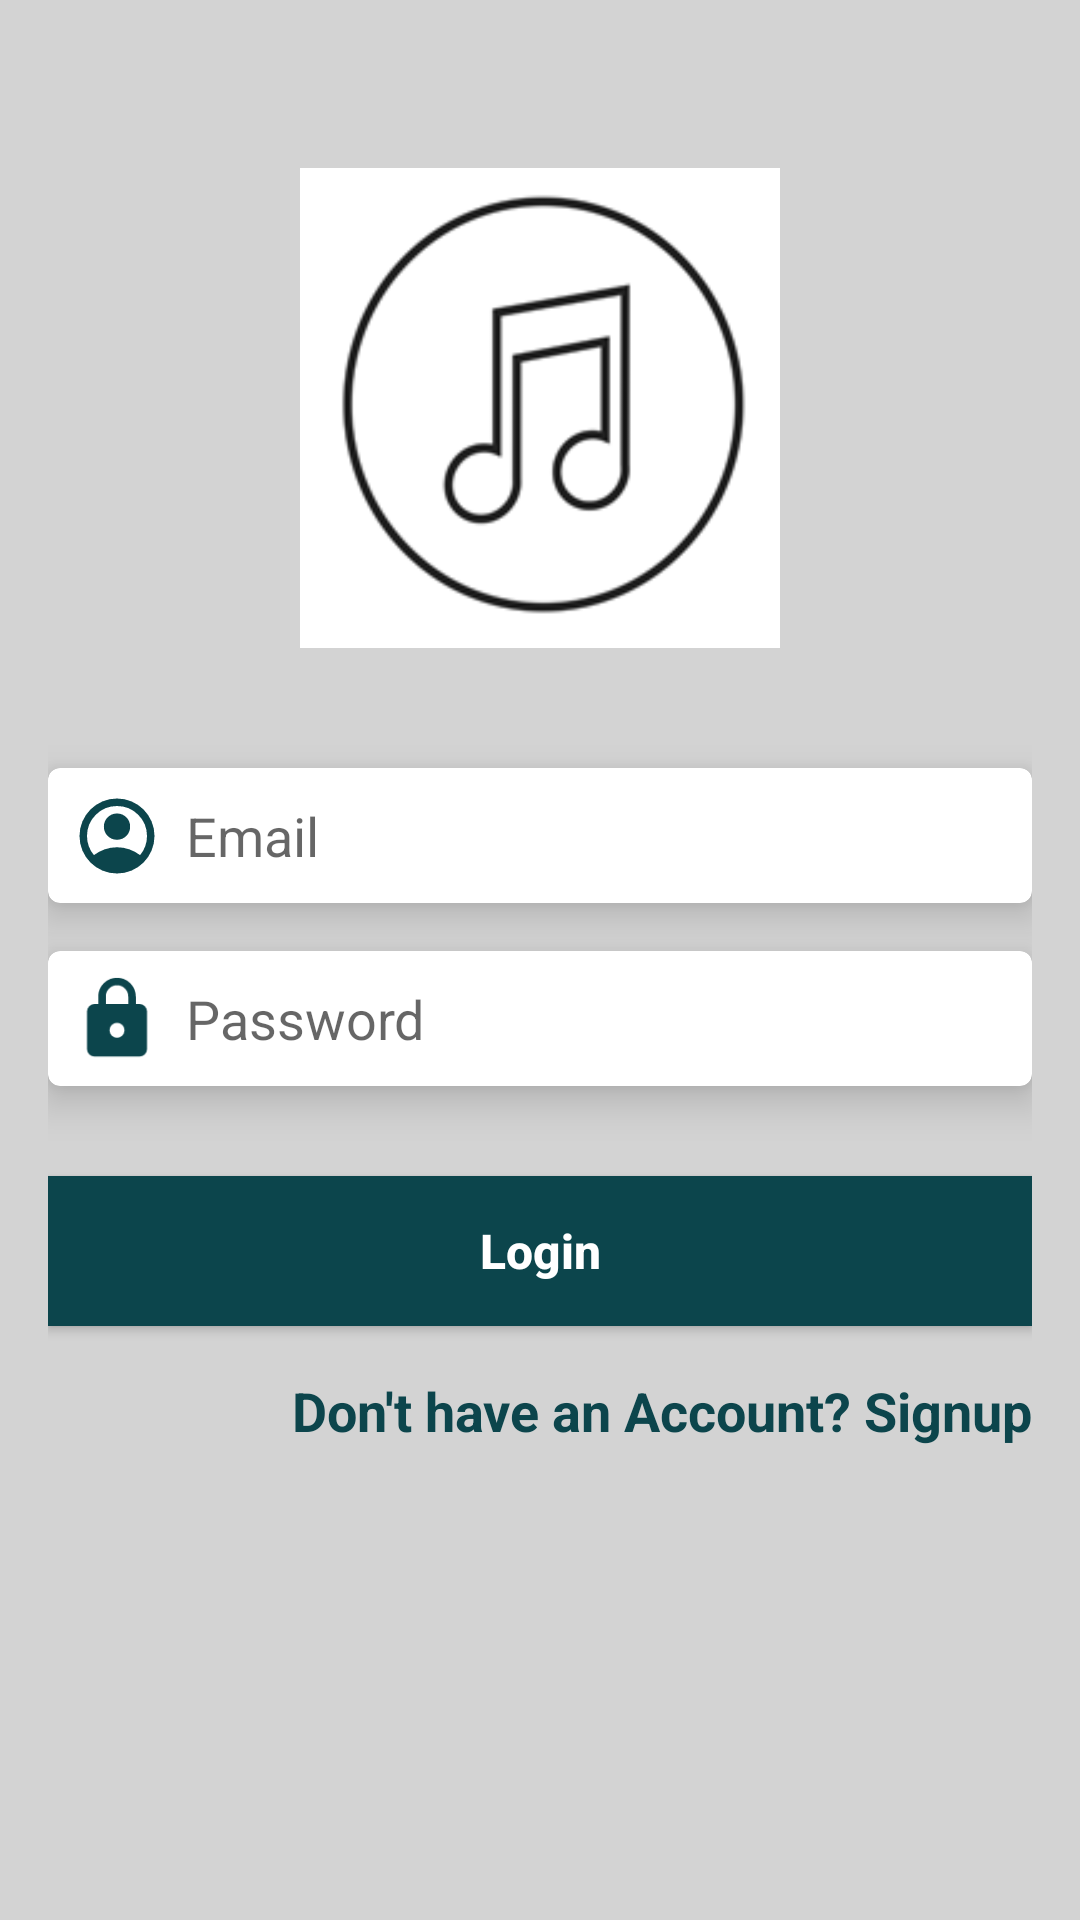

Where icons sit on this 1080 × 1920 app screen, as [x1=x1, y1=y1, x2=x2, y2=y2]:
lock: [x1=86, y1=978, x2=148, y2=1057]
person circle: [x1=79, y1=798, x2=155, y2=874]
